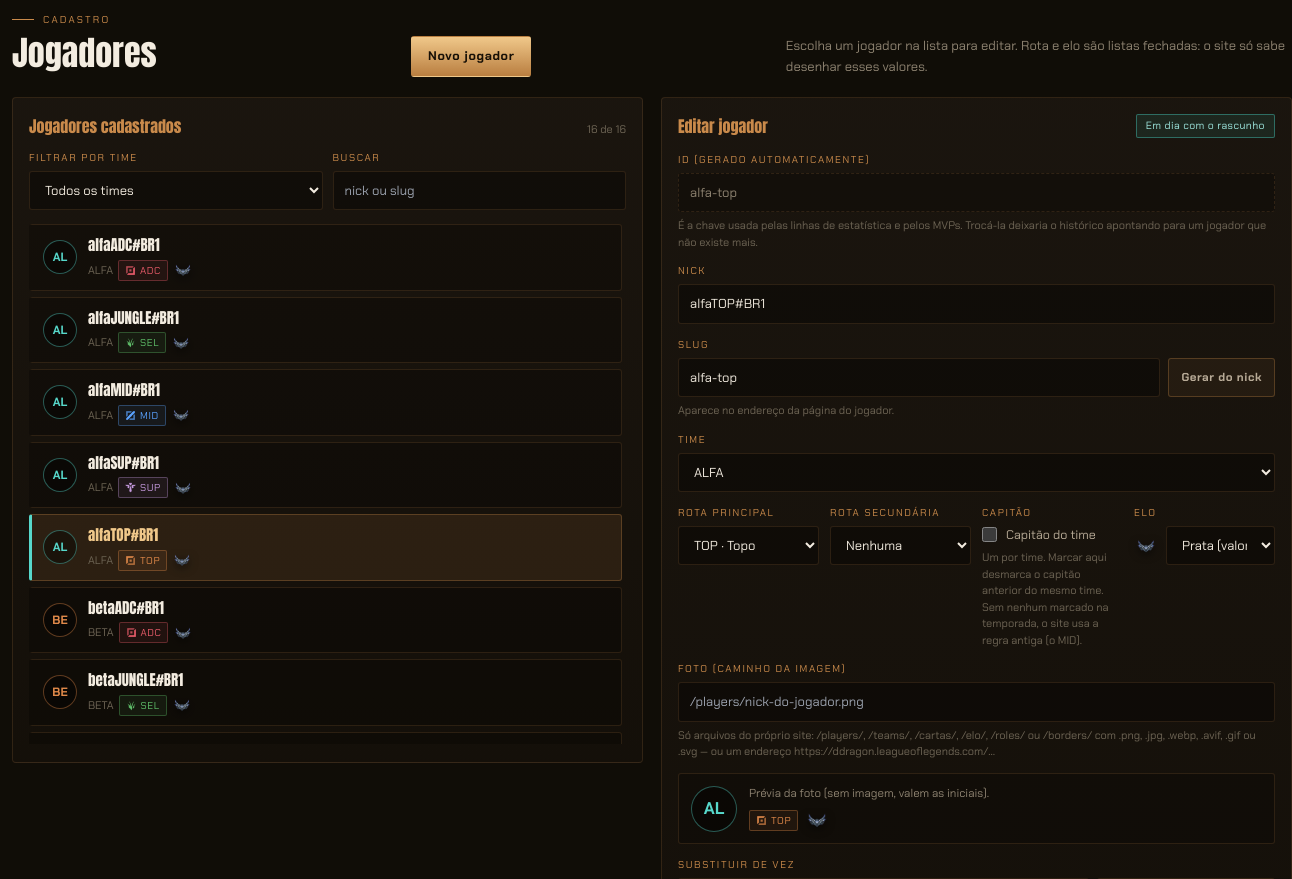
Scenario: reserva (sem time) no cadastro › o filtro “Reservas” mostra só quem está sem time
Step 1. Select "Reservas (sem time)" in the dropdown showing "Todos os times" → (176, 190), box [29,171,322,210]
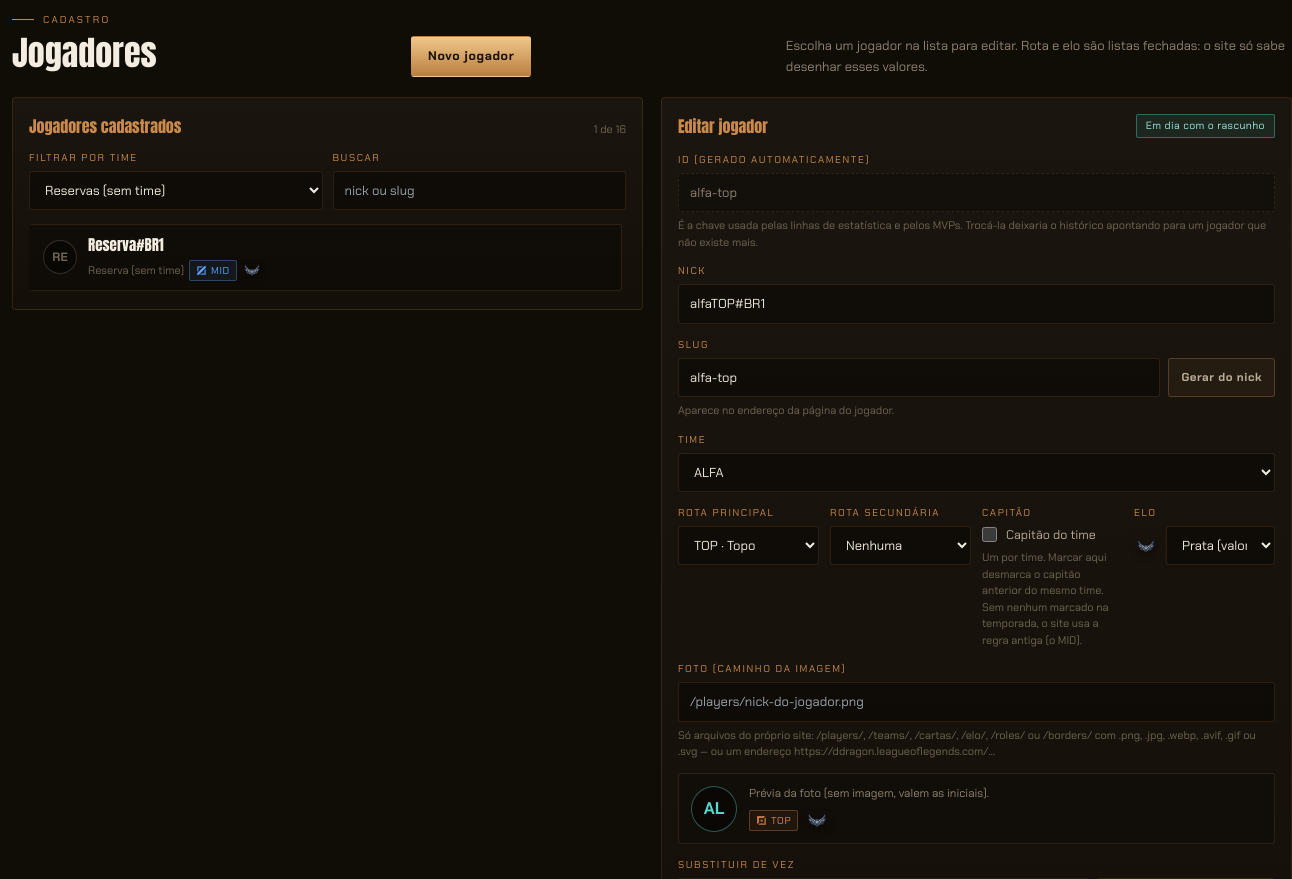
Now the text "1 de 16" is shown, box [594,121,626,137]
